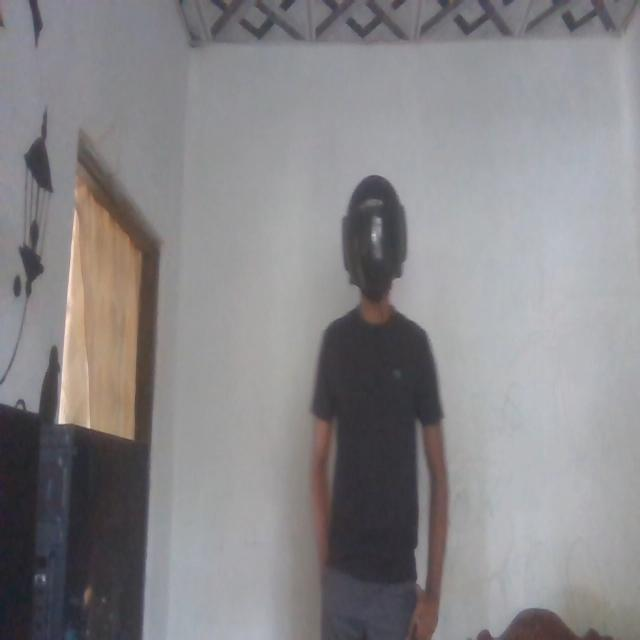Helmet_Wearer: (342, 171, 407, 321)
Person: (304, 172, 447, 640)
